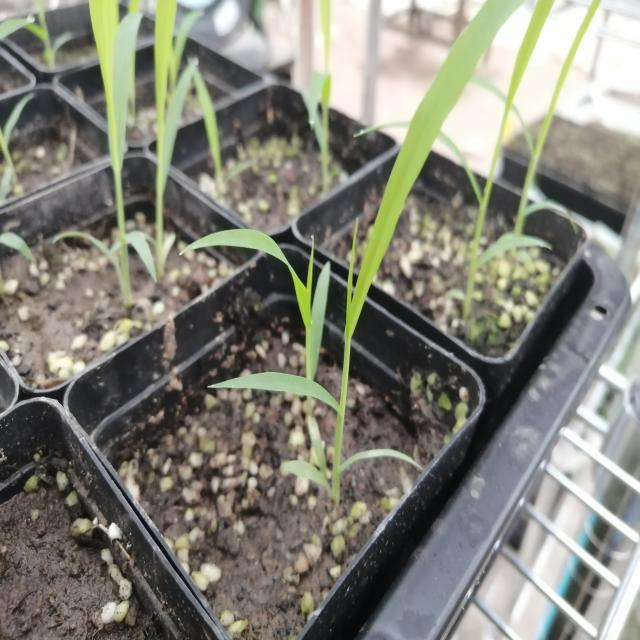crabgrass: (209, 18, 471, 480)
